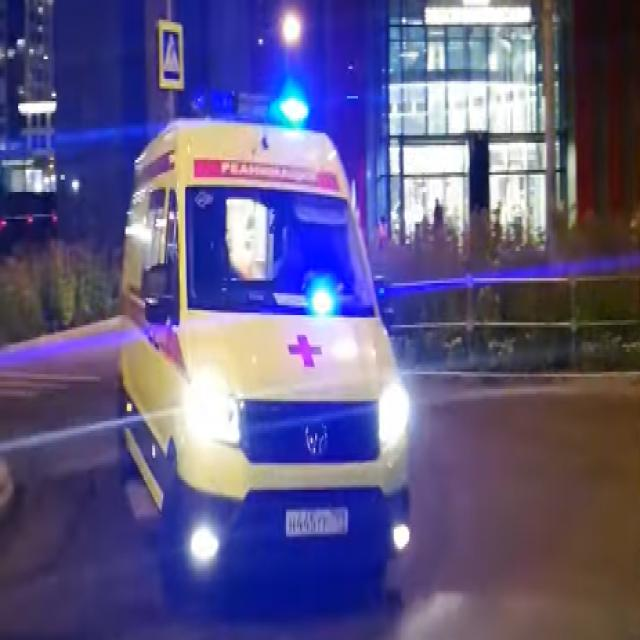intensive care unit: (115, 112, 419, 616)
